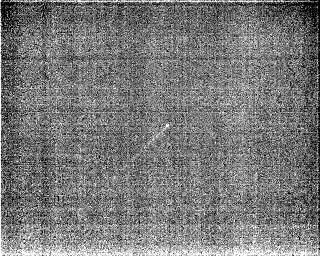AIRPLANE: (109, 122, 172, 168)
